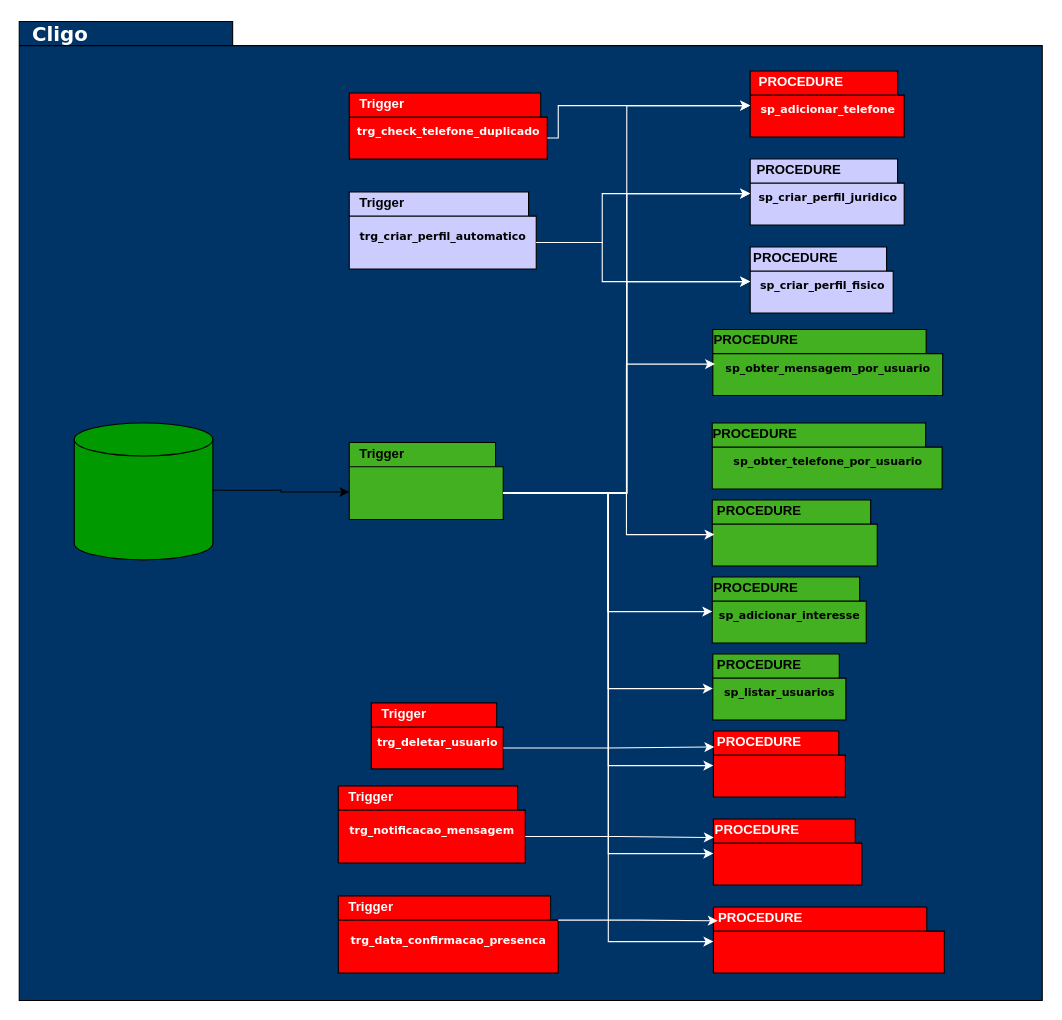
Some shapes in this 1062 by 1020 pixel diagram are drawn without their labels. The box of each missing label's shape, as (x1, y1, x2, y2) in pixels:
PostgreSQL SUPABASE: (73, 422, 213, 560)
sp_adicionar_usuario: (348, 441, 503, 520)
sp_deletar_usuario: (712, 730, 845, 797)
sp_enviar_mensagem: (712, 818, 862, 885)
sp_obter_presencas_por_usuario: (712, 906, 944, 973)
sp_remover_interesse: (711, 499, 877, 566)
